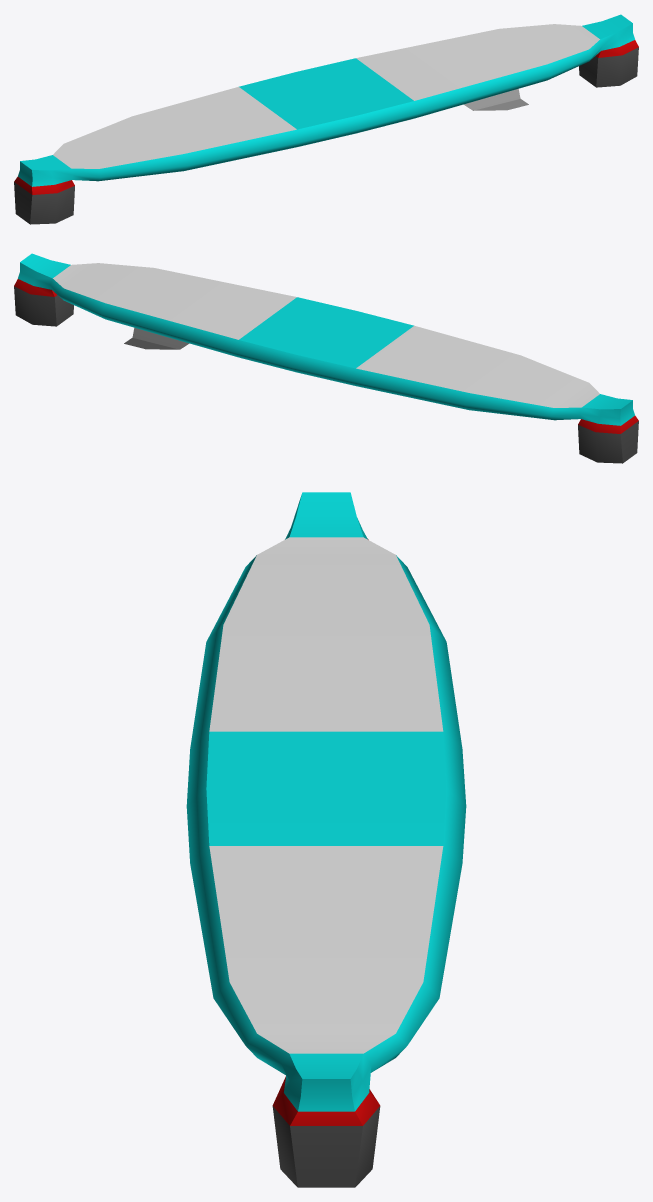
Rendered from tabla.fbx.
3 renders of one model, top to bottom at view 1: azimuth 30°, elevation 25°; view 2: azimuth 150°, elevation 25°; view 3: azimuth 270°, elevation 25°, orthographic. The views are drawn at different scales.
Parts seen in each view (by area): view 1: surfboard; view 2: surfboard; view 3: surfboard.
Boxes of the visible parts, x1,y1,x2,y2 form: surfboard: (14, 14, 638, 224); surfboard: (14, 253, 638, 463); surfboard: (186, 492, 466, 1187).
Bounding box in the file's own units: 1149 × 110 × 229.
